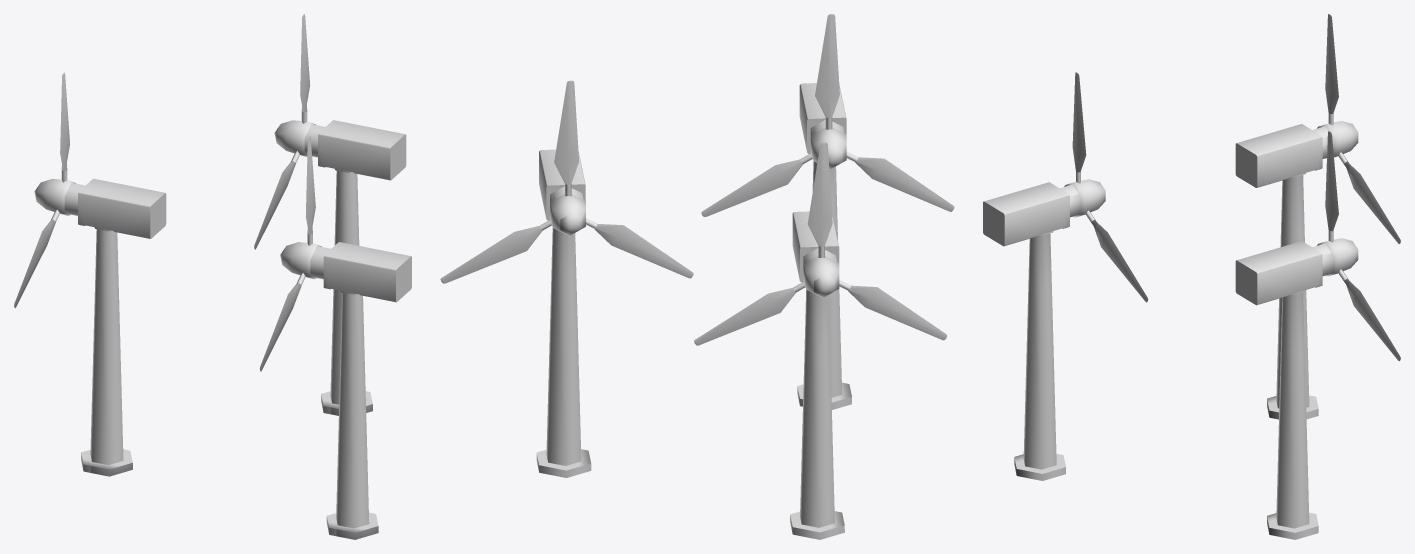
The model's file is WindFarm.FBX.
3 renders of one model, left to right at view 1: azimuth 30°, elevation 25°; view 2: azimuth 150°, elevation 25°; view 3: azimuth 270°, elevation 25°, orthographic. The views are drawn at different scales.
Parts seen in each view (by area): view 1: Cylinder028, Cylinder029, Cylinder027; view 2: Cylinder028, Cylinder027, Cylinder029; view 3: Cylinder027, Cylinder029, Cylinder028.
Part boxes in pixels (x1,y1,x2,y2): Cylinder028: (14,72,166,476); Cylinder029: (259,136,411,539); Cylinder027: (254,14,406,415); Cylinder028: (694,142,946,539); Cylinder027: (440,80,693,477); Cylinder029: (701,14,954,409); Cylinder027: (1235,131,1400,539); Cylinder029: (983,72,1148,480); Cylinder028: (1235,14,1400,419).
Bounding box in the file's own units: 97.24 × 86.83 × 85.63.
